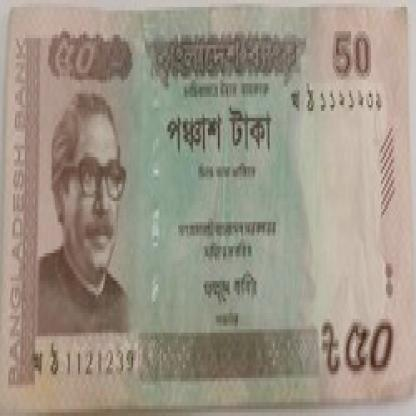Fifty taka: (50, 21, 110, 97)
